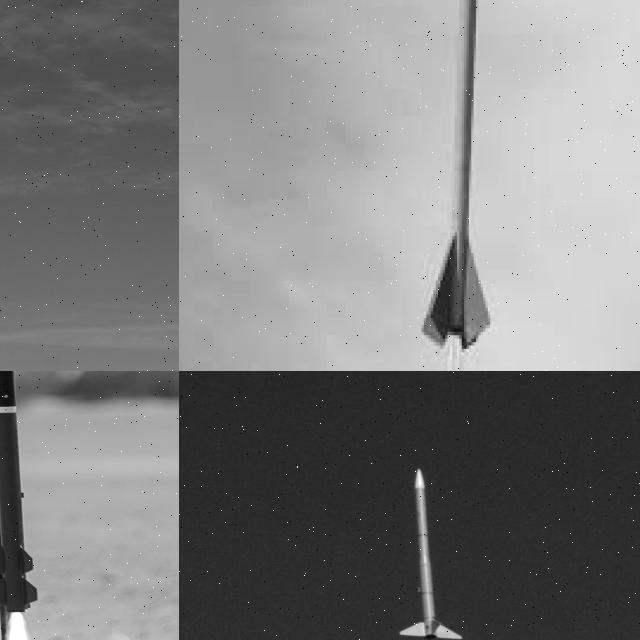Rocket: (417, 0, 492, 360), (397, 466, 464, 640), (0, 371, 40, 616)
